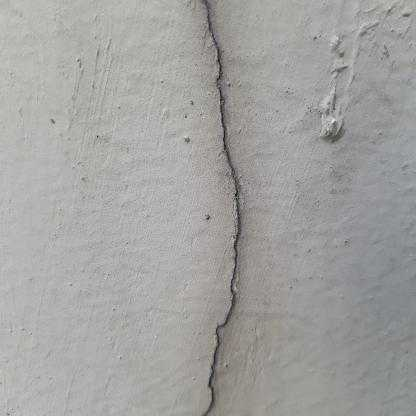crack: (203, 2, 239, 415)
